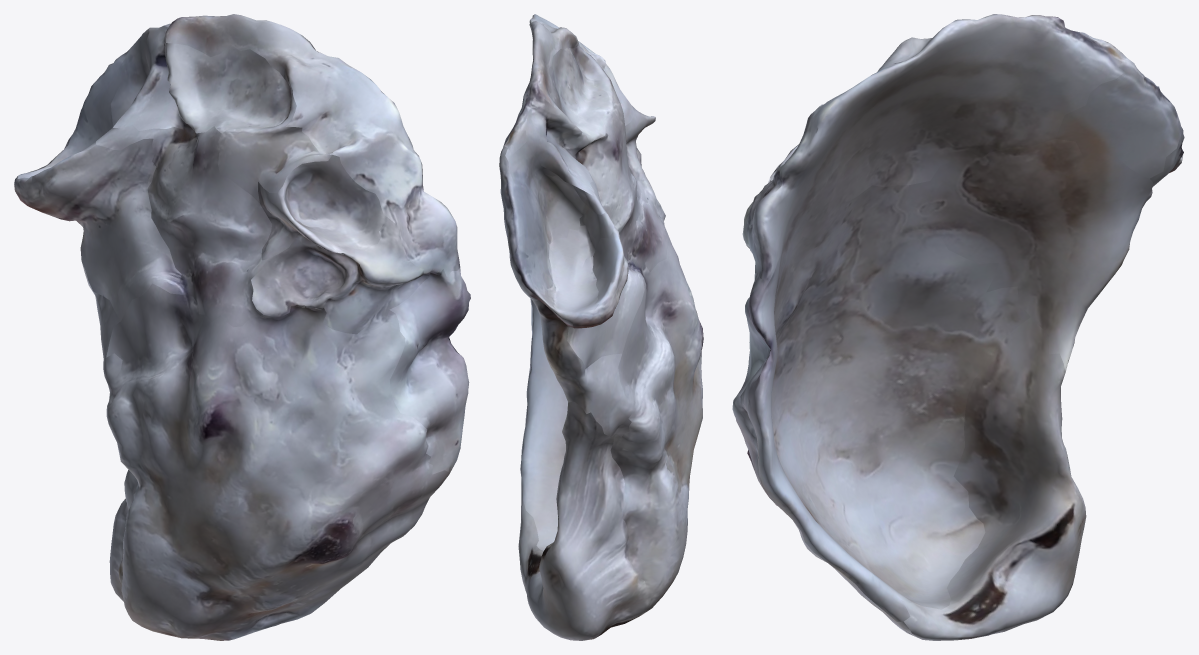
File: Coquillage3.obj
The picture shows the model from 3 angles, left to right: view 1: azimuth 30°, elevation 25°; view 2: azimuth 150°, elevation 25°; view 3: azimuth 270°, elevation 25°; orthographic projection. The views are drawn at different scales.
Parts seen in each view (by area): view 1: Object; view 2: Object; view 3: Object.
Boxes of the visible parts, <box> form: Object: <box>14,14,470,640</box>; Object: <box>499,14,703,640</box>; Object: <box>732,14,1184,640</box>.
Size of the model in its own units: 0.1516 by 0.3284 by 0.2139.
Materials: 1 (1 with a texture image).
